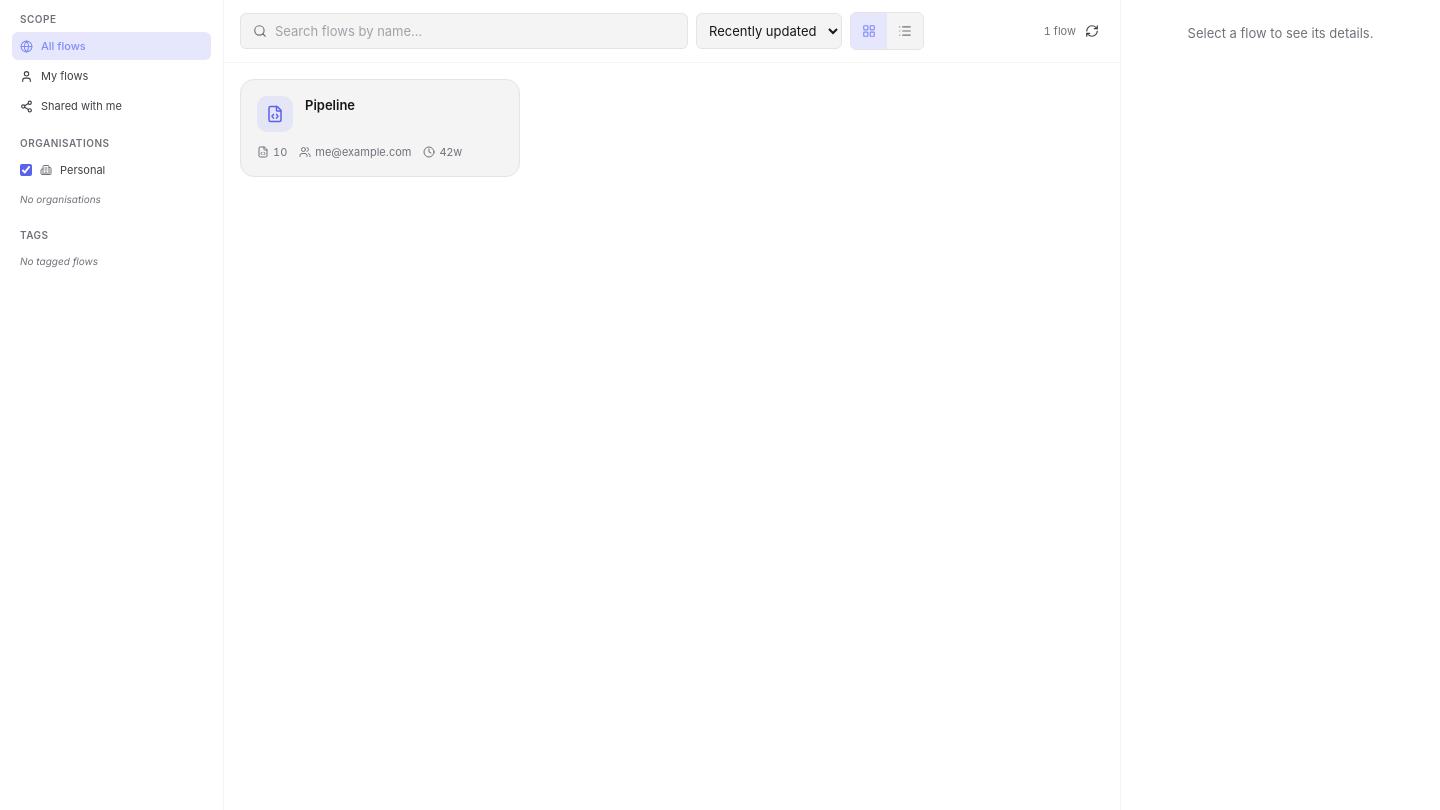
Test: LibraryWorkspace › duplicates a flow as "<name> (copy)" in the same org
The image size is (1440, 810).
Click the text "Pipeline" at (330, 105), box [305,96,355,114]
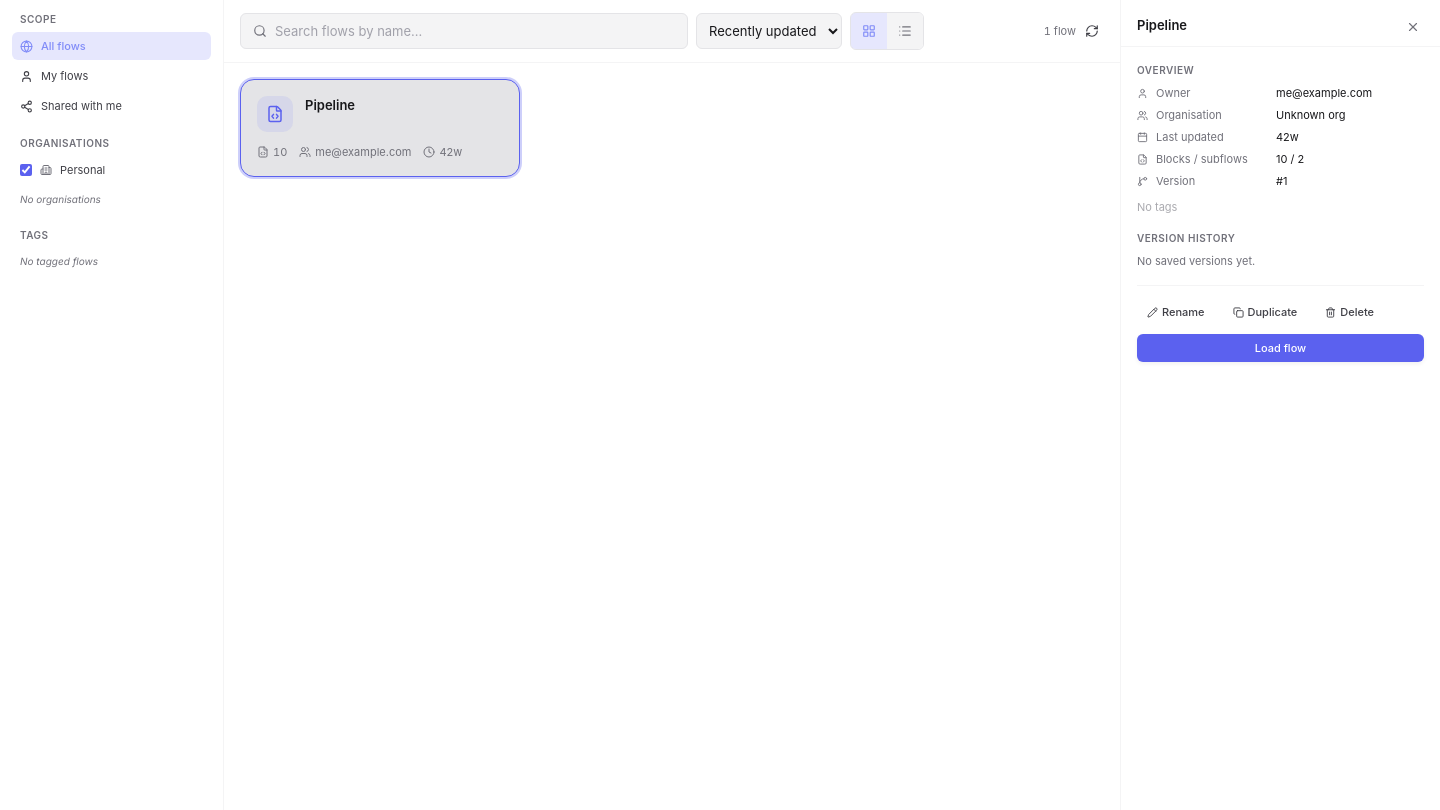
Click the button "Duplicate" at (1265, 312), box [1222,298,1307,326]
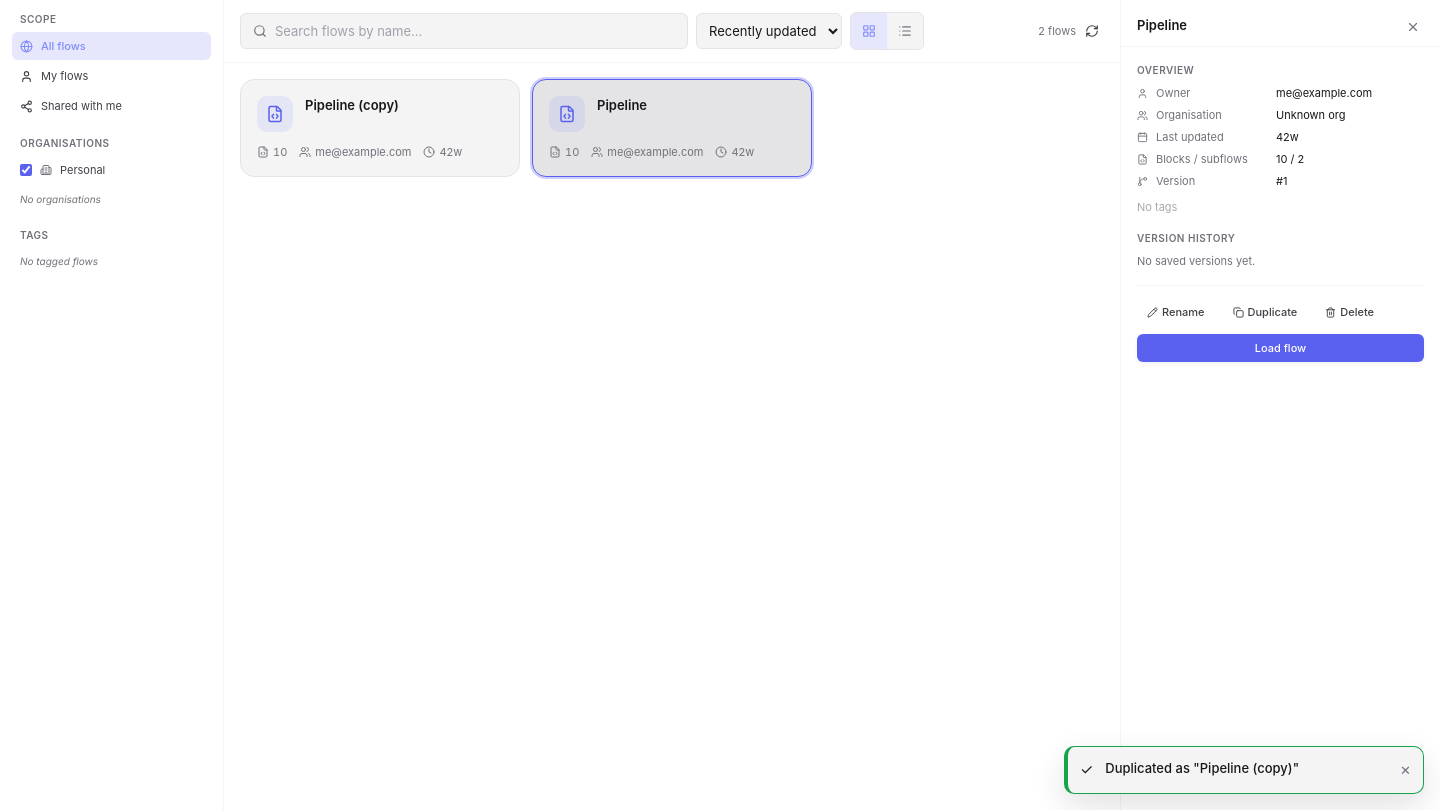
Result: the text "Pipeline (copy)" is shown at [305,96,399,114]
